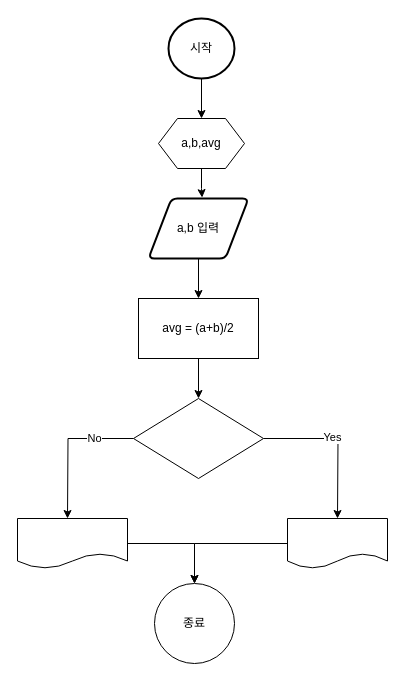
Some shapes in this 405 by 681 pixel diagram are drawn without their labels. Here are the shapes that lost their labels. From the top down, the centre of each, then its label:
At pixel 198 438: "avg >= 95".
At pixel 72 543: "Just Good".
At pixel 337 543: "Very Good".
